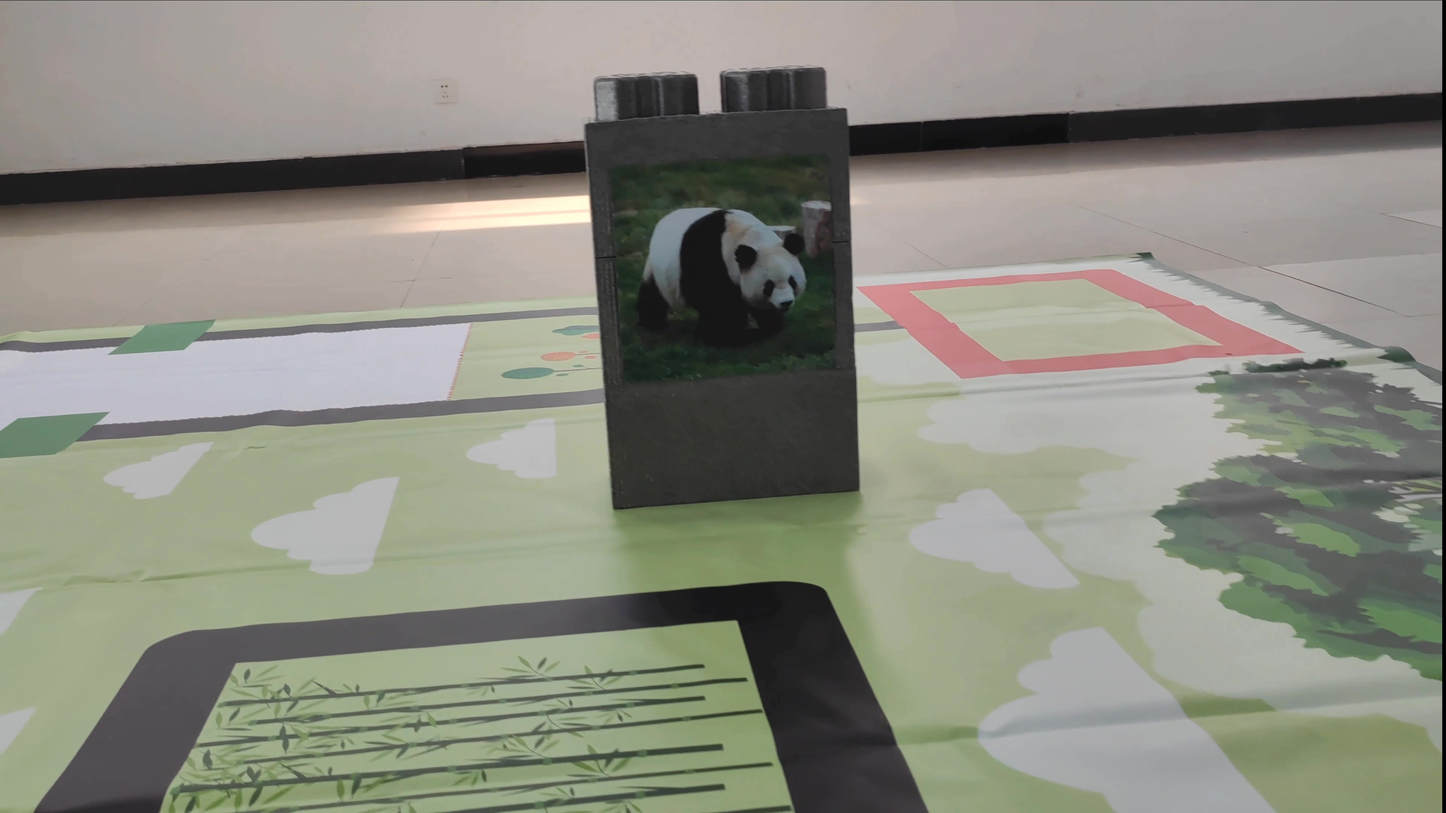panda: (627, 205, 809, 370)
